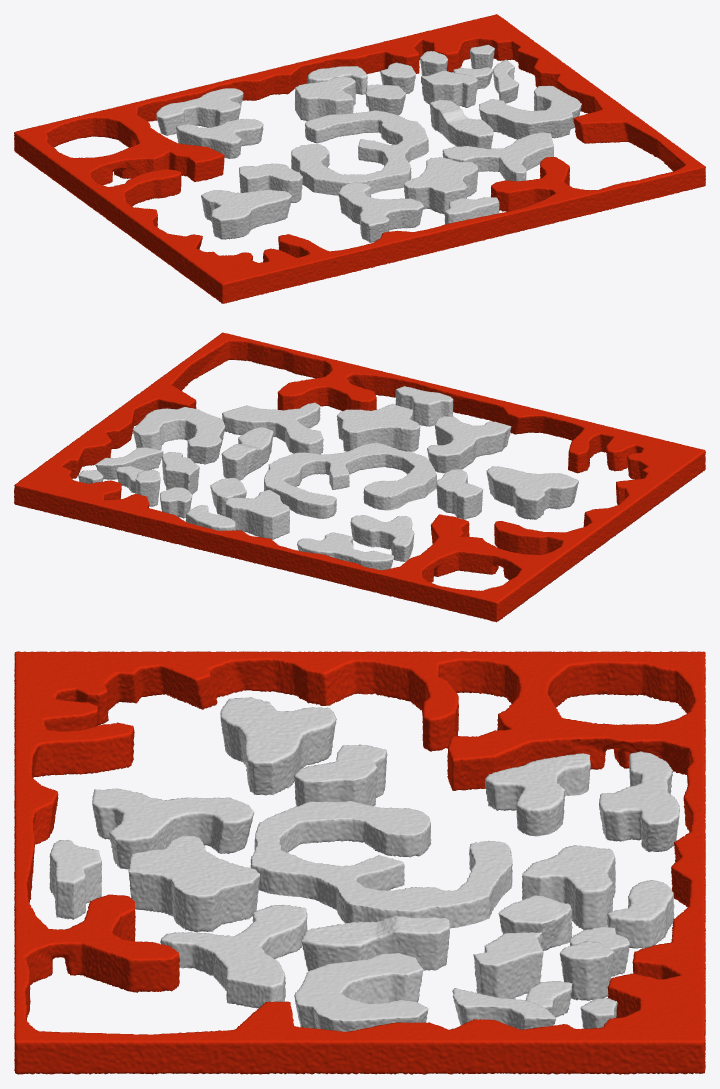
The model's file is F_MAP_01.fbx.
The picture shows the model from 3 angles, top to bottom: view 1: azimuth 30°, elevation 25°; view 2: azimuth 150°, elevation 25°; view 3: azimuth 270°, elevation 25°; orthographic projection. The views are drawn at different scales.
Visible parts, largest first — view 1: F_Stone_01, F_Stone_01.004, F_Stone_01.014, F_Stone_01.001, F_Stone_01.002, F_Stone_01.011, F_Stone_01.012, F_Stone_01.006, F_Stone_01.005, F_Stone_01.007, F_Stone_01.010, F_Stone_01.003 (+8 smaller); view 2: F_Stone_01, F_Stone_01.004, F_Stone_01.014, F_Stone_01.001, F_Stone_01.011, F_Stone_01.002, F_Stone_01.012, F_Stone_01.007, F_Stone_01.005, F_Stone_01.010, F_Stone_01.003, F_Stone_01.006 (+8 smaller); view 3: F_Stone_01, F_Stone_01.004, F_Stone_01.012, F_Stone_01.014, F_Stone_01.002, F_Stone_01.011, F_Stone_01.001, F_Stone_01.010, F_Stone_01.005, F_Stone_01.006, F_Stone_01.007, F_Stone_01.003 (+9 smaller).
Part boxes in pixels (<box>): F_Stone_01: <box>14,14,705,303</box>; F_Stone_01.004: <box>291,110,428,195</box>; F_Stone_01.014: <box>478,85,581,139</box>; F_Stone_01.001: <box>201,189,291,239</box>; F_Stone_01.002: <box>338,182,423,242</box>; F_Stone_01.011: <box>442,132,553,181</box>; F_Stone_01.012: <box>403,157,478,214</box>; F_Stone_01.006: <box>156,88,243,135</box>; F_Stone_01.005: <box>176,118,263,158</box>; F_Stone_01.007: <box>295,76,355,121</box>; F_Stone_01.010: <box>429,99,493,148</box>; F_Stone_01.003: <box>239,163,302,202</box>; F_Stone_01: <box>14,332,705,622</box>; F_Stone_01.004: <box>264,442,437,518</box>; F_Stone_01.014: <box>132,407,225,464</box>; F_Stone_01.001: <box>486,466,578,519</box>; F_Stone_01.011: <box>222,402,323,454</box>; F_Stone_01.002: <box>427,416,511,473</box>; F_Stone_01.012: <box>336,403,420,451</box>; F_Stone_01.007: <box>225,489,289,539</box>; F_Stone_01.005: <box>350,515,414,561</box>; F_Stone_01.010: <box>221,427,273,480</box>; F_Stone_01.003: <box>436,469,483,519</box>; F_Stone_01.006: <box>297,532,393,570</box>; F_Stone_01: <box>14,651,705,1074</box>; F_Stone_01.004: <box>250,801,512,928</box>; F_Stone_01.012: <box>128,835,260,931</box>; F_Stone_01.014: <box>294,953,428,1031</box>; F_Stone_01.002: <box>92,788,254,869</box>; F_Stone_01.011: <box>160,904,307,1008</box>; F_Stone_01.001: <box>220,697,336,795</box>; F_Stone_01.010: <box>301,915,449,971</box>; F_Stone_01.005: <box>485,753,590,836</box>; F_Stone_01.006: <box>599,751,679,851</box>; F_Stone_01.007: <box>522,845,615,929</box>; F_Stone_01.003: <box>294,744,387,806</box>.
Size of the model in its own units: 63573 by 3419 by 47493.
